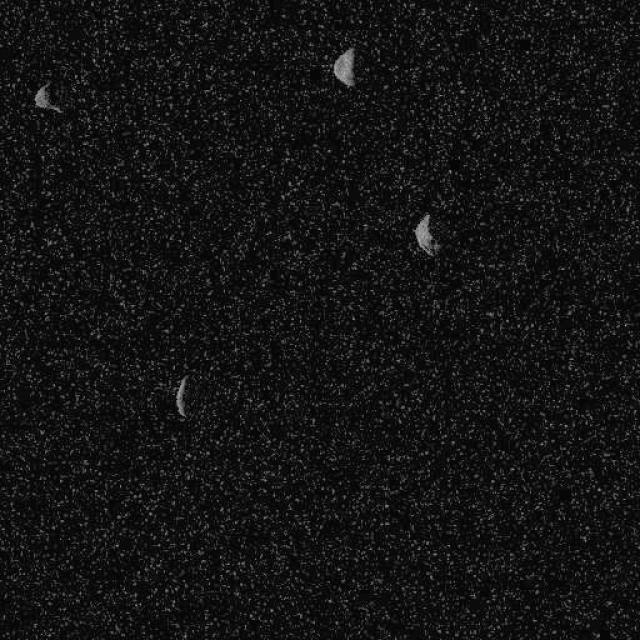D2: (412, 212, 440, 258), (32, 80, 62, 114), (332, 46, 356, 88), (174, 373, 188, 418)
